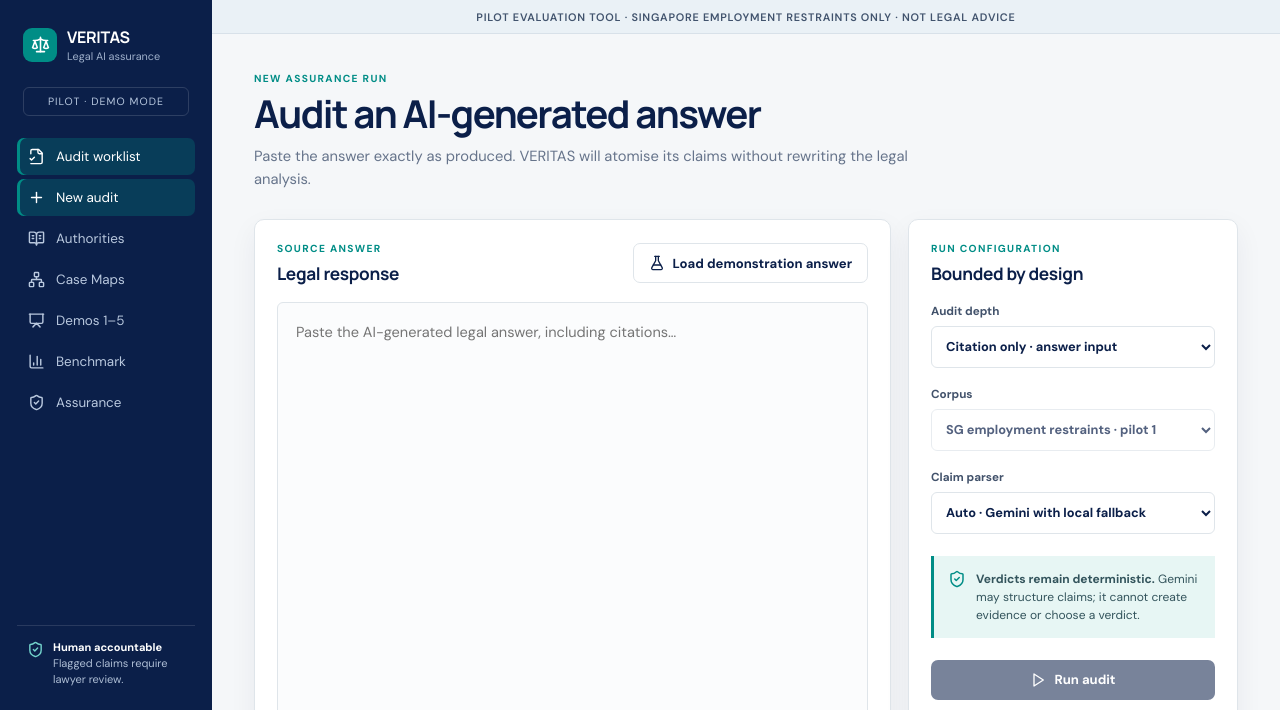
ProofMark dashboard › reveals contextual inputs only when full mode is selected
Expected: the field with placeholder "What question was the AI asked" is not shown
Select "Full · context, omissions and balance" in the dropdown labelled "Audit depth". click: (1073, 347)
box: [931,326,1215,368]
(page scrolled)
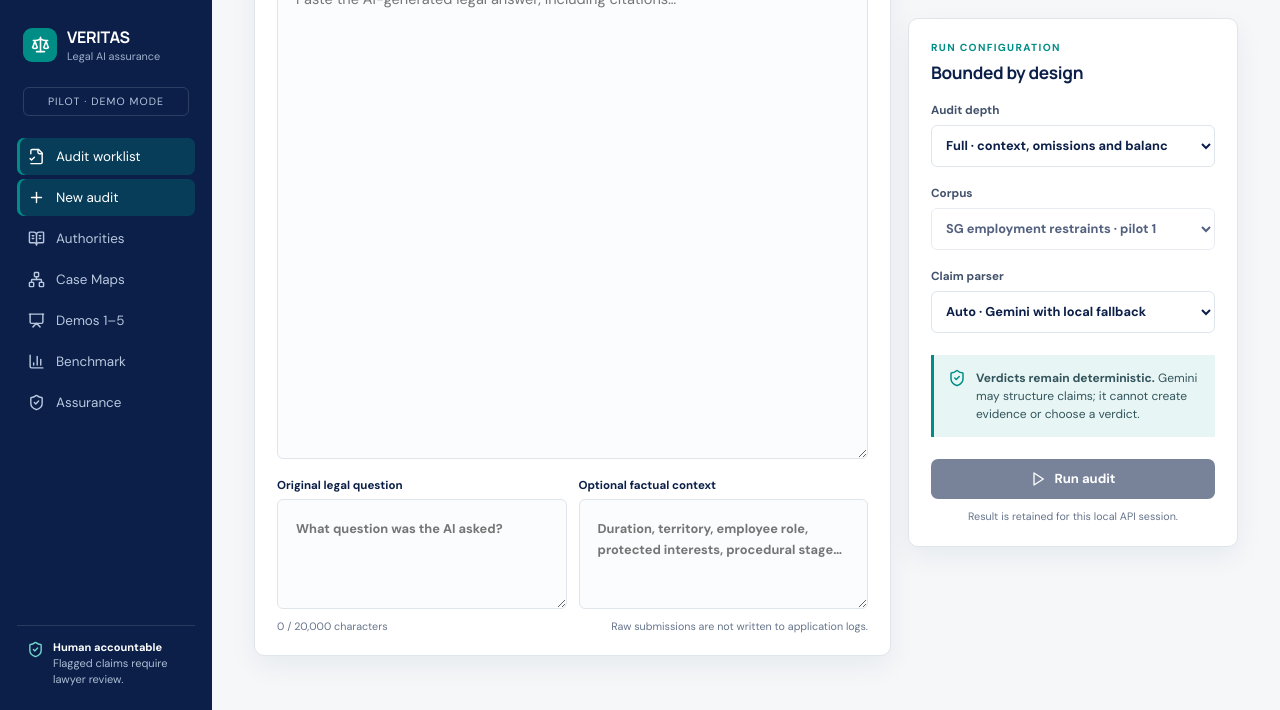
Expected: the text box with placeholder "What question was the AI asked?" is shown, [277,499,566,609]
Expected: the text box with placeholder "Duration, territory" is shown, [578,499,868,609]
